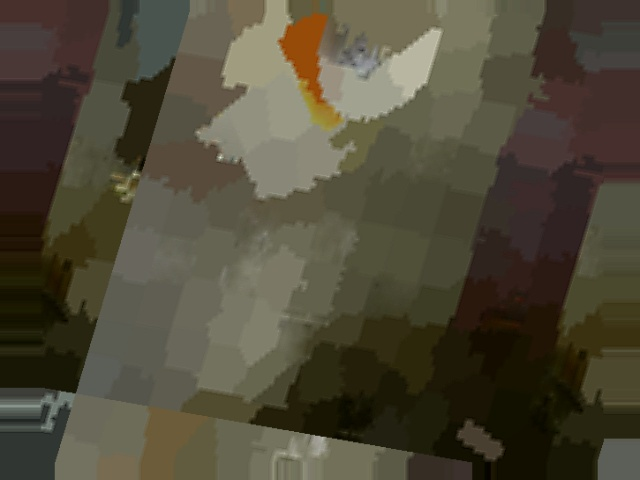three: (336, 25, 388, 82)
